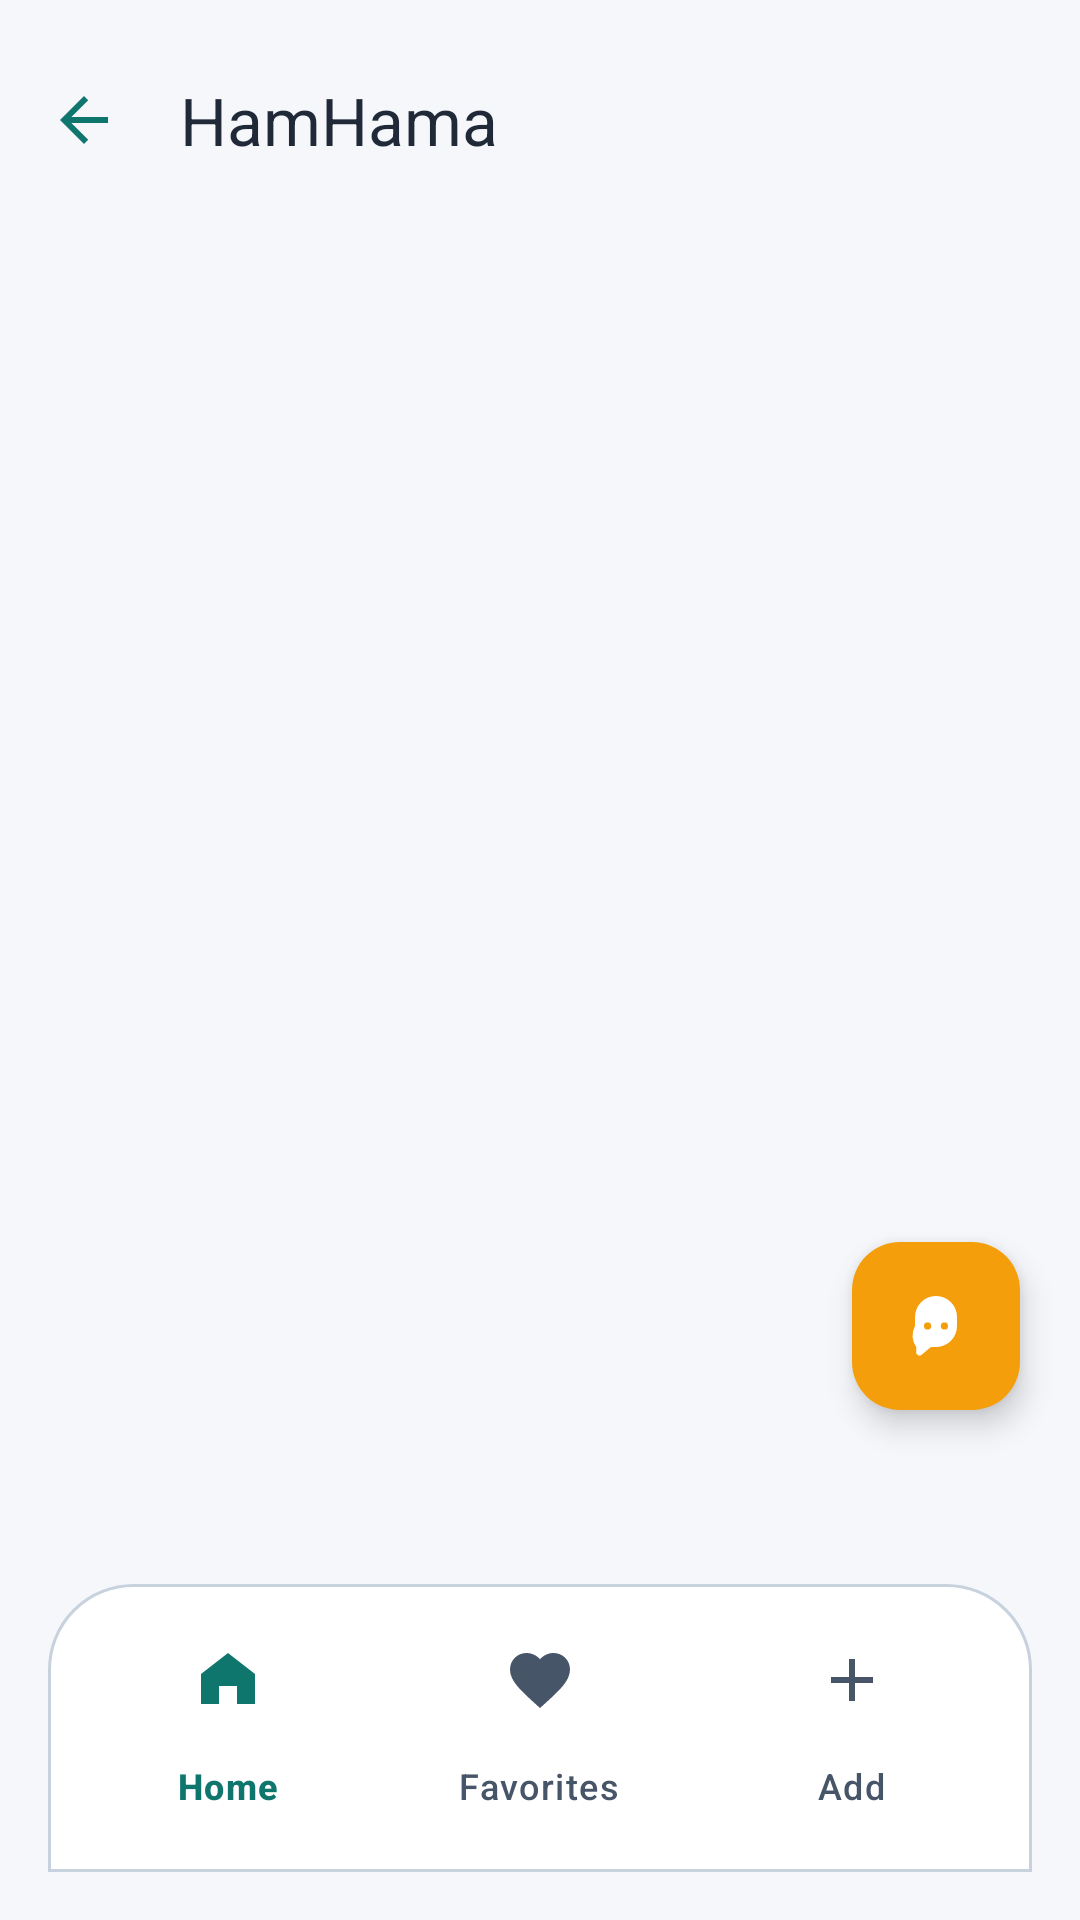

Screen size 1080×1920. Icon name, then its center in pixels as point (x, y):
Open chat: point (936, 1326)
